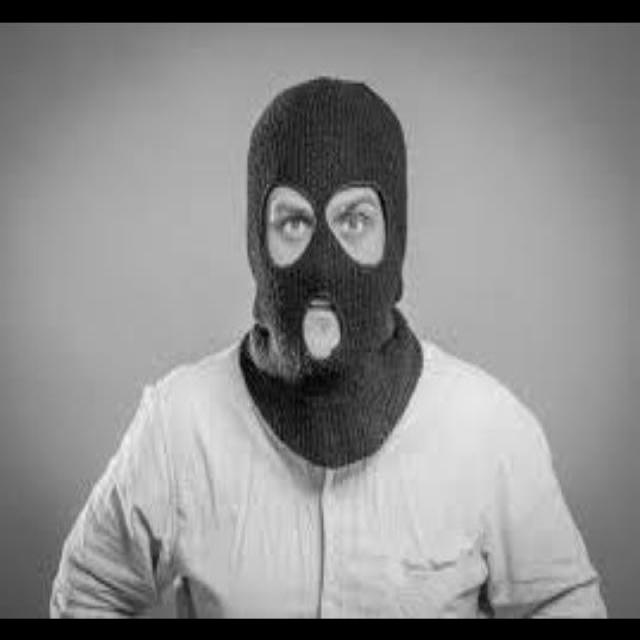6_pasamontana: (239, 77, 423, 467)
